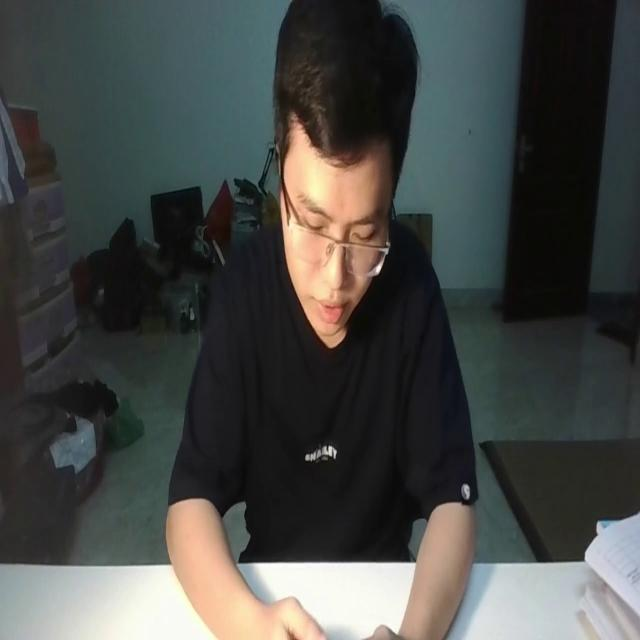student: (167, 0, 478, 640)
